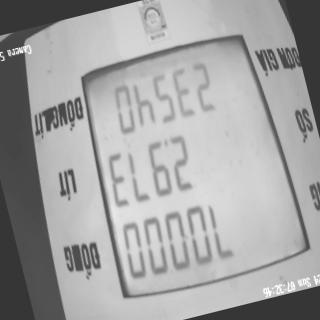screen: (62, 19, 320, 320)
